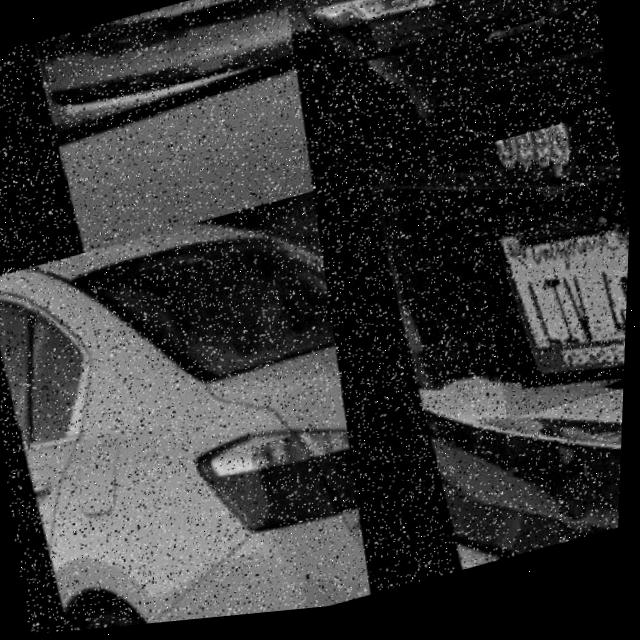LicensePlate: (473, 189, 633, 433), (162, 0, 291, 63)
